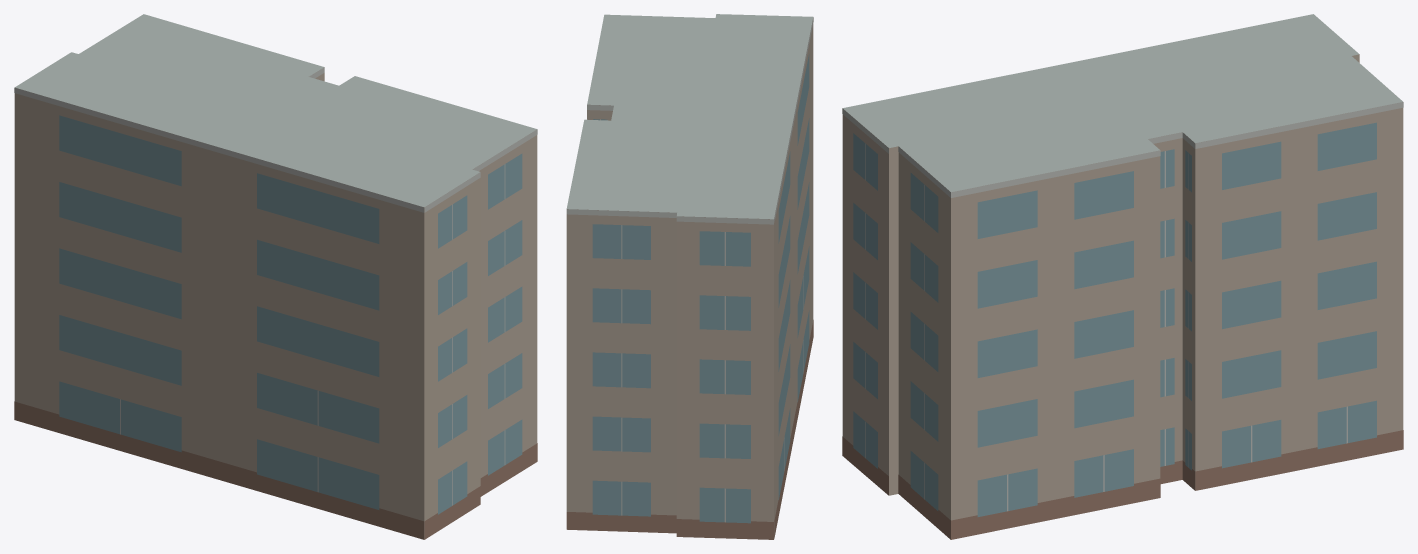
File: survey-upis-32535741.glb
3 views of the same model, side by side, from view 1: azimuth 30°, elevation 25°; view 2: azimuth 150°, elevation 25°; view 3: azimuth 270°, elevation 25° (orthographic). The views are drawn at different scales.
Parts seen in each view (by area): view 1: survey-upis-32535741.tmp; view 2: survey-upis-32535741.tmp; view 3: survey-upis-32535741.tmp.
Boxes of the visible parts, box(x1,y1,x2,y2) form: survey-upis-32535741.tmp: box(14, 14, 537, 539); survey-upis-32535741.tmp: box(566, 14, 813, 539); survey-upis-32535741.tmp: box(842, 14, 1403, 539).
Size of the model in its own units: 16.01 by 14.55 by 21.29.
